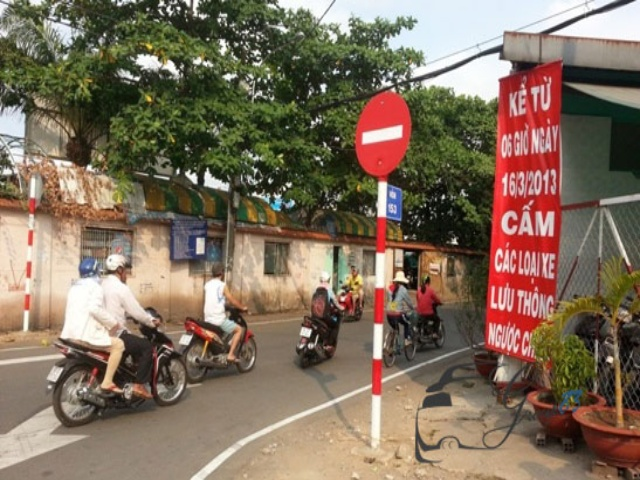Cam_di_nguoc_chieu: (352, 89, 413, 178)
